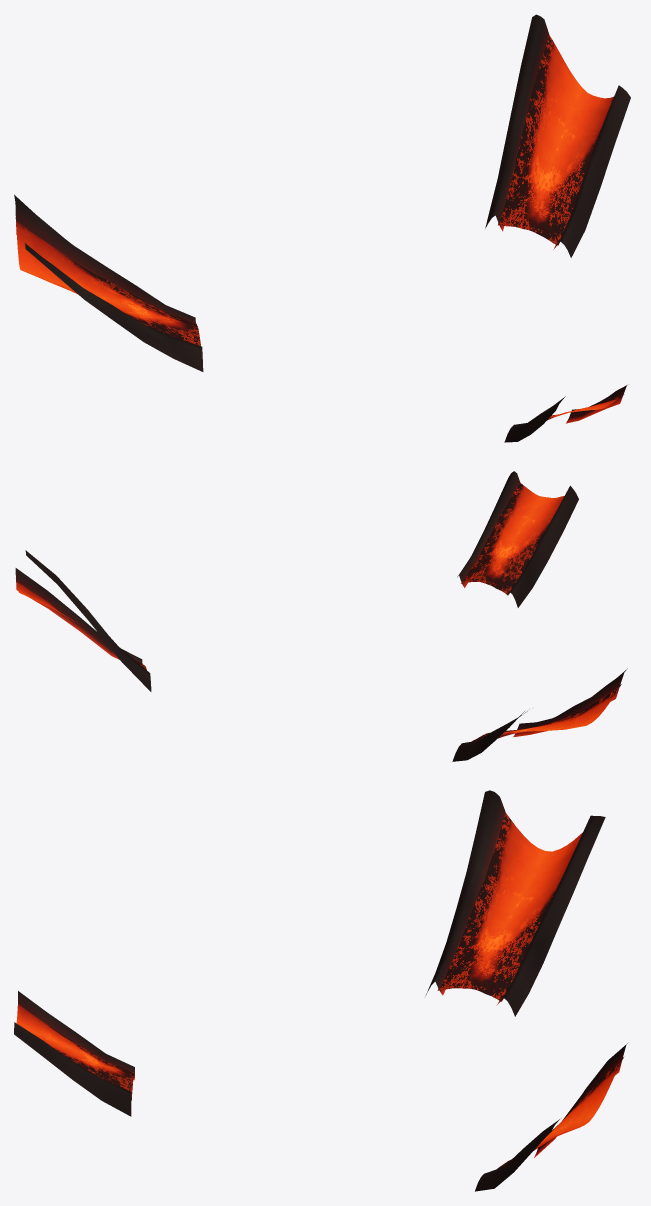
The model's file is lava_seg_0.glb.
3 renders of one model, top to bottom at view 1: azimuth 30°, elevation 25°; view 2: azimuth 150°, elevation 25°; view 3: azimuth 270°, elevation 25°, orthographic. The views are drawn at different scales.
Parts seen in each view (by area): view 1: seg; view 2: seg; view 3: seg.
Part boxes in pixels (x1,y1,x2,y2): seg: [14, 14, 630, 442]; seg: [15, 471, 627, 761]; seg: [14, 790, 627, 1191].
Size of the model in its own units: 27.97 by 7.48 by 23.71.
